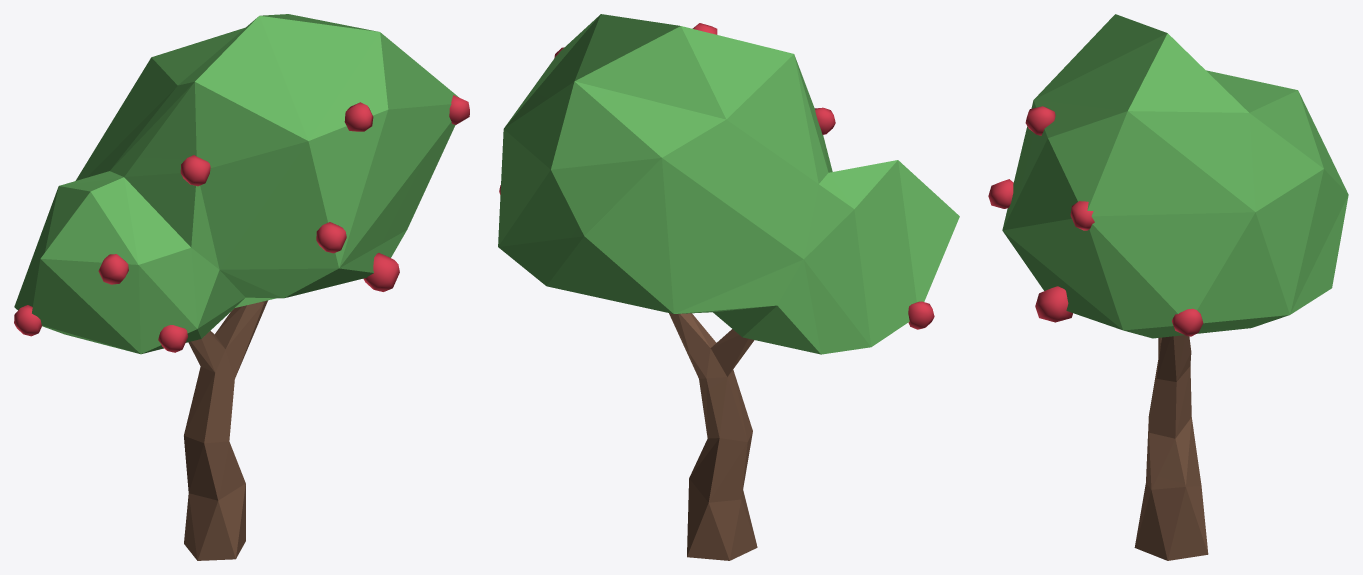
File: tree_3_2.FBX
3 views of the same model, side by side, from view 1: azimuth 30°, elevation 25°; view 2: azimuth 150°, elevation 25°; view 3: azimuth 270°, elevation 25° (orthographic). The views are drawn at different scales.
Parts seen in each view (by area): view 1: drzewo_004; view 2: drzewo_004; view 3: drzewo_004.
Boxes of the visible parts, x1=… form: drzewo_004: x1=14, y1=14, x2=469, y2=560; drzewo_004: x1=498, y1=14, x2=959, y2=560; drzewo_004: x1=988, y1=14, x2=1348, y2=560.
Size of the model in its own units: 49.52 by 57.88 by 35.36.
